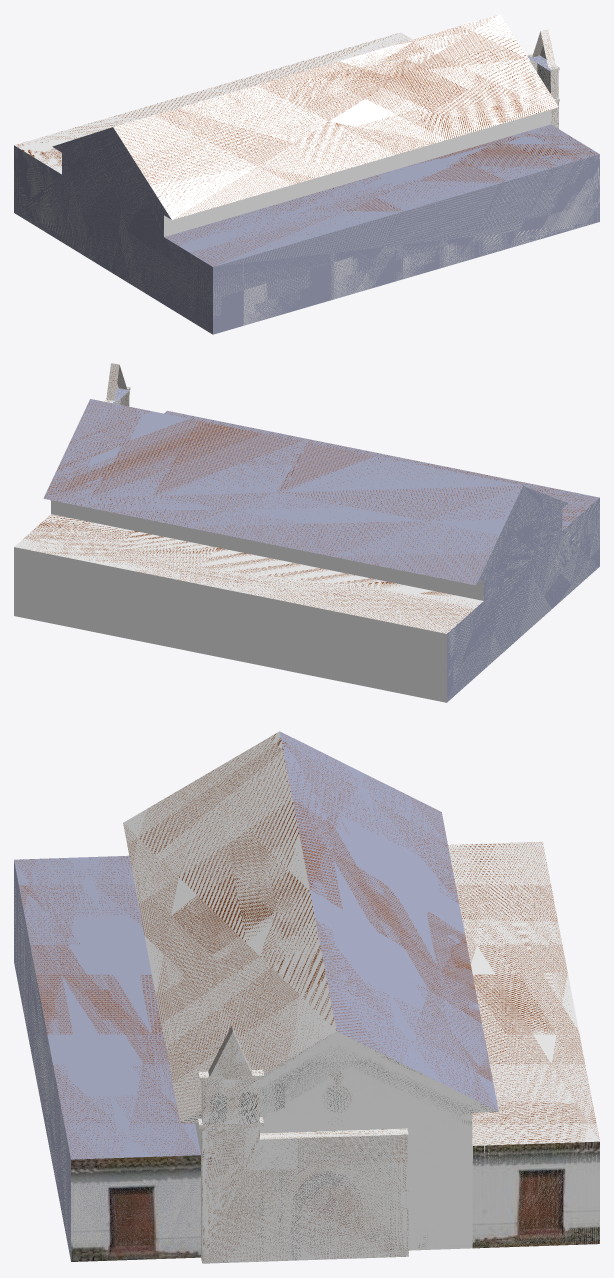
File: San+Antonio+iglesia.fbx
3 renders of one model, top to bottom at view 1: azimuth 30°, elevation 25°; view 2: azimuth 150°, elevation 25°; view 3: azimuth 270°, elevation 25°, orthographic. The views are drawn at different scales.
Visible parts, largest first — view 1: Model; view 2: Model; view 3: Model.
Part boxes in pixels (x1,y1,x2,y2): Model: (14, 14, 599, 334); Model: (14, 363, 599, 702); Model: (14, 731, 599, 1263).
Size of the model in its own units: 3374 by 1144 by 2614.
